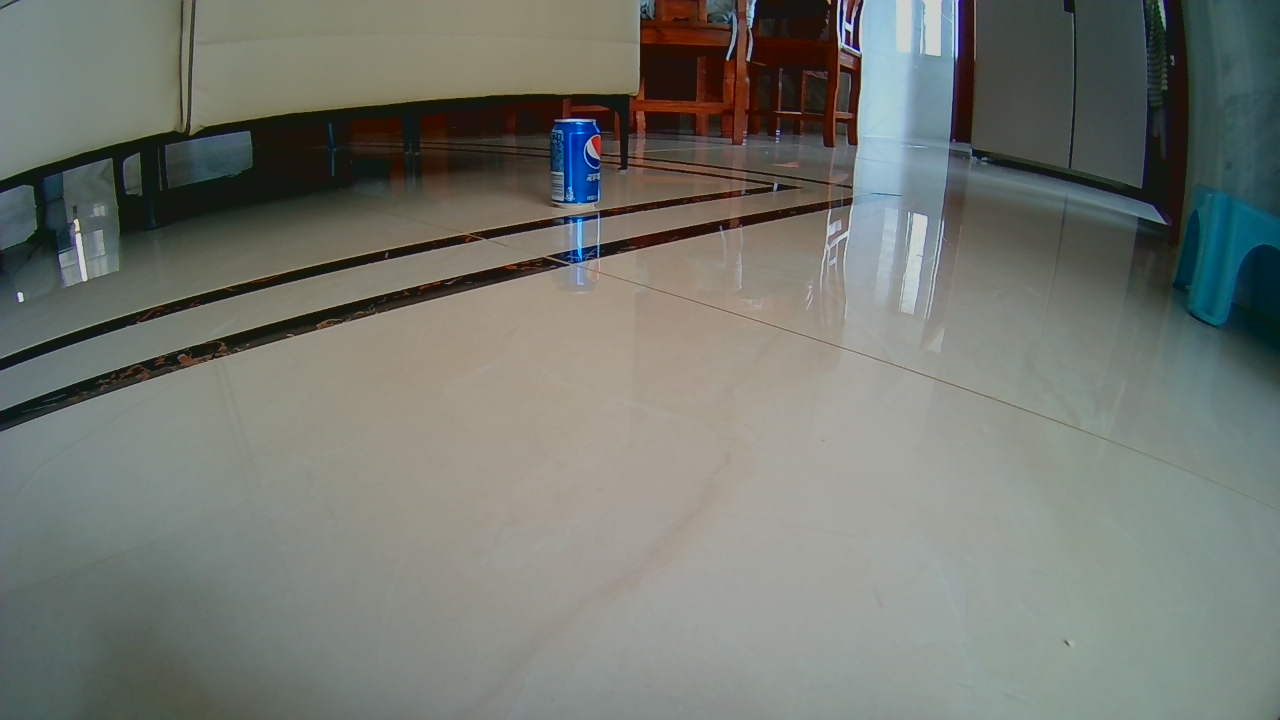pessi: (550, 113, 602, 209)
